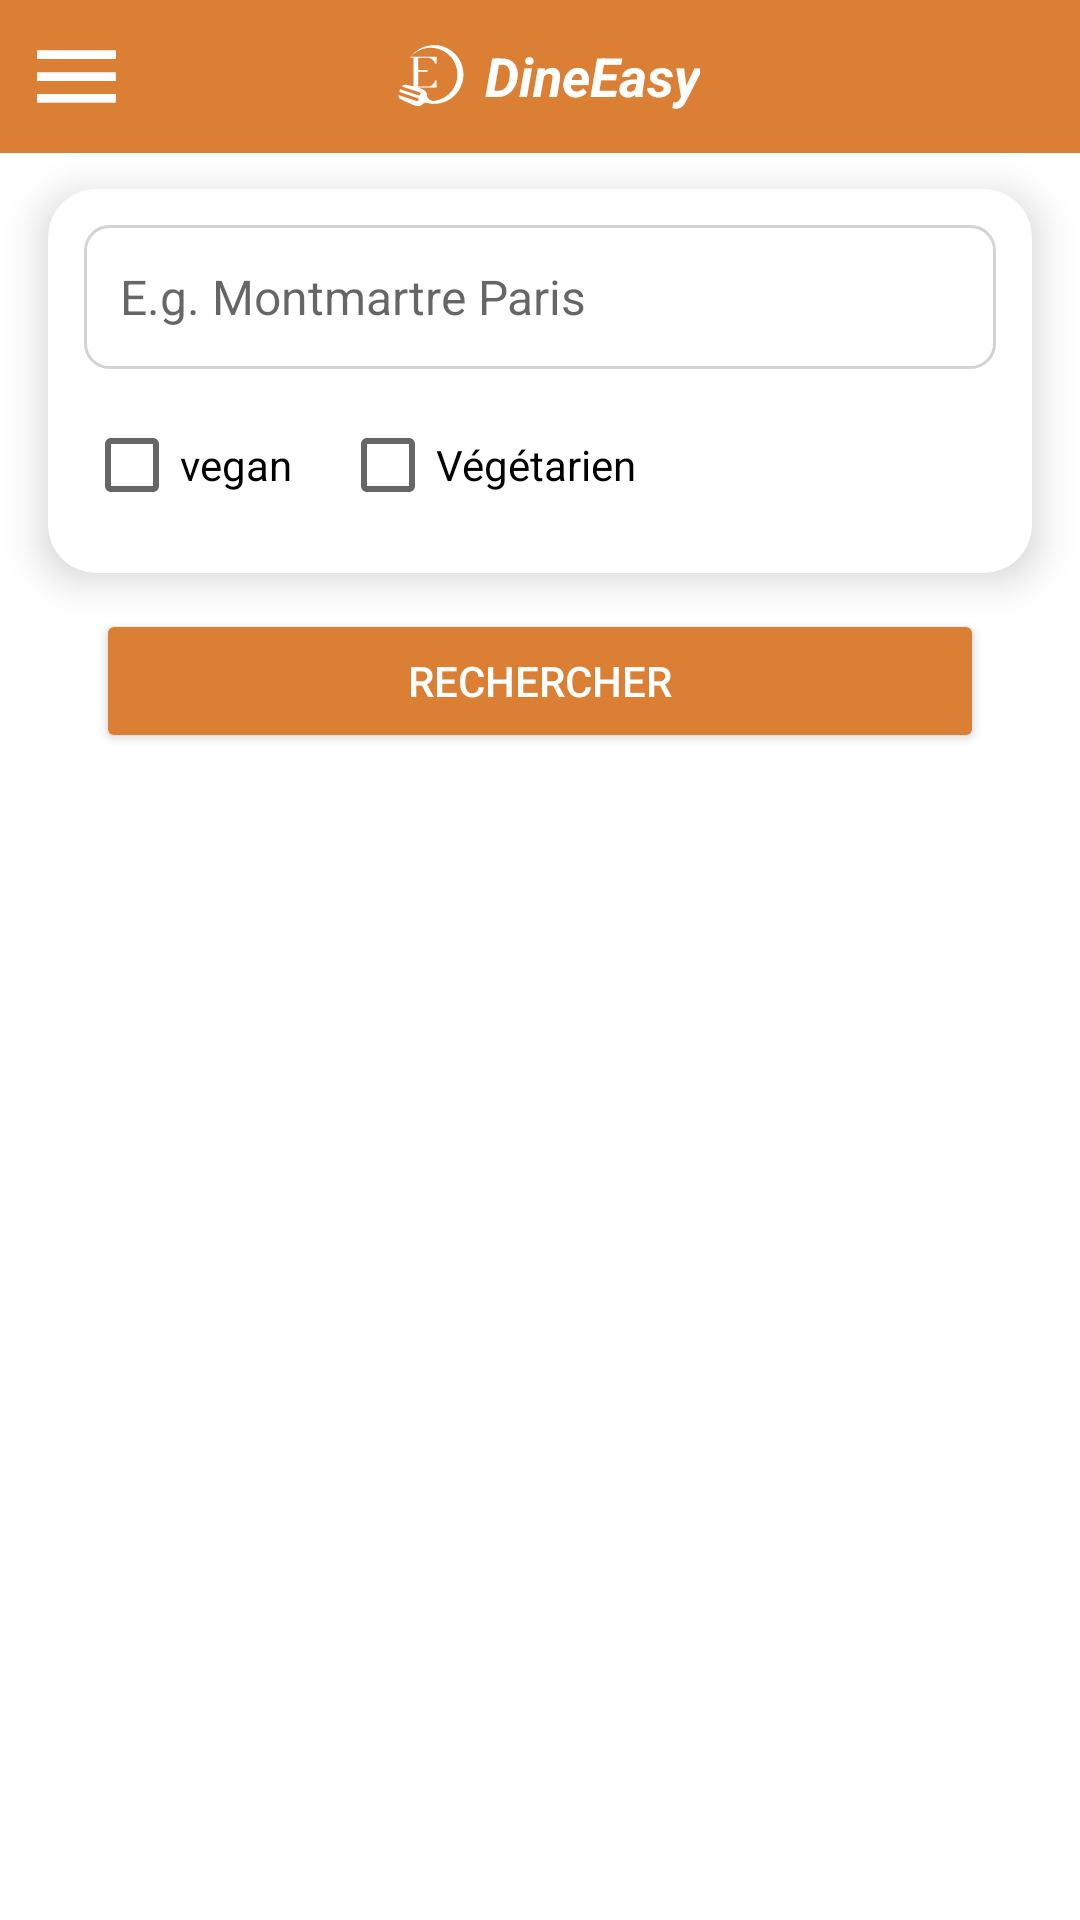

Screen size 1080×1920. Icon name, then its center in pixels as [x,y]:
Menu: [76,76]
